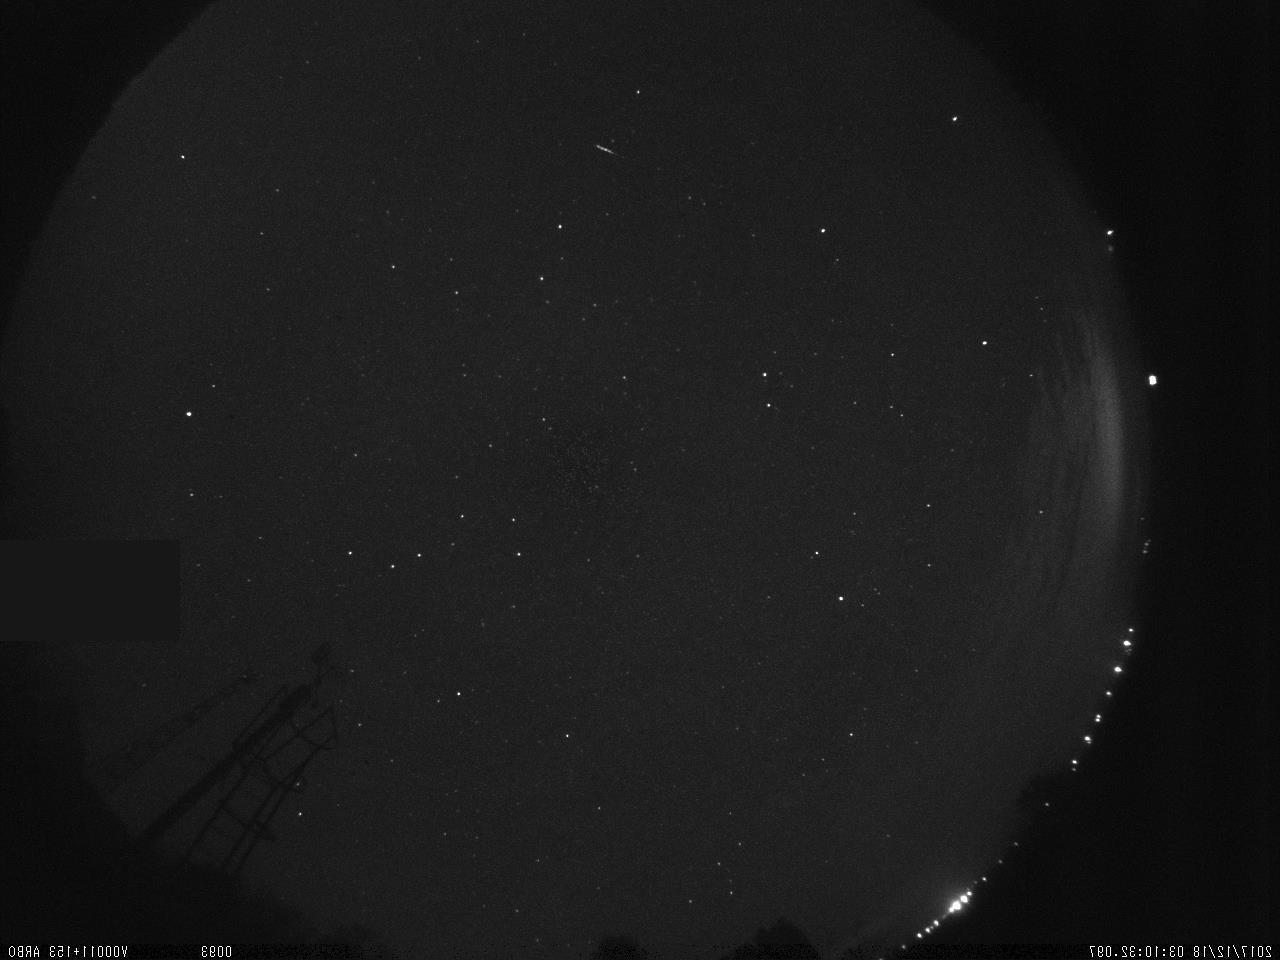meteor: (582, 134, 633, 168)
